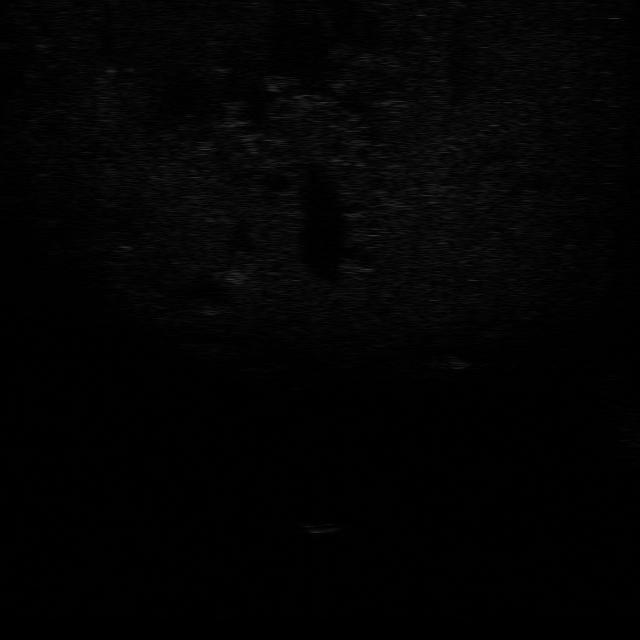cube: (302, 520, 346, 533)
square cage: (430, 352, 476, 372)
